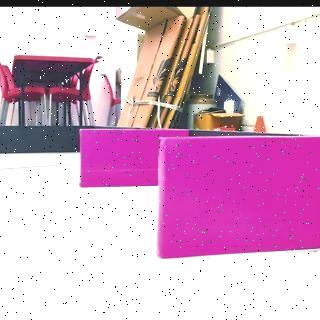xparking: (161, 134, 320, 250), (82, 128, 156, 184)
